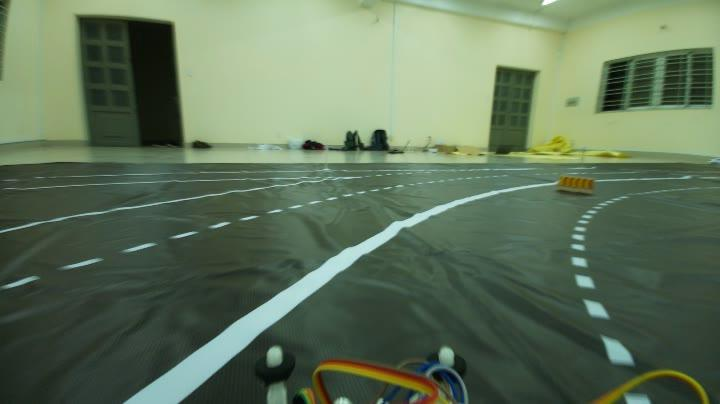roadblock: (553, 171, 598, 200)
